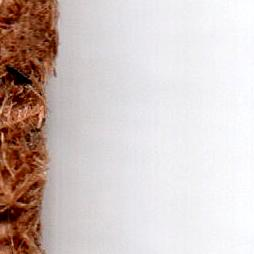egg: (6, 65, 31, 83)
